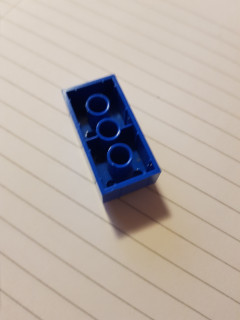2x4 blue: (61, 71, 163, 206)
